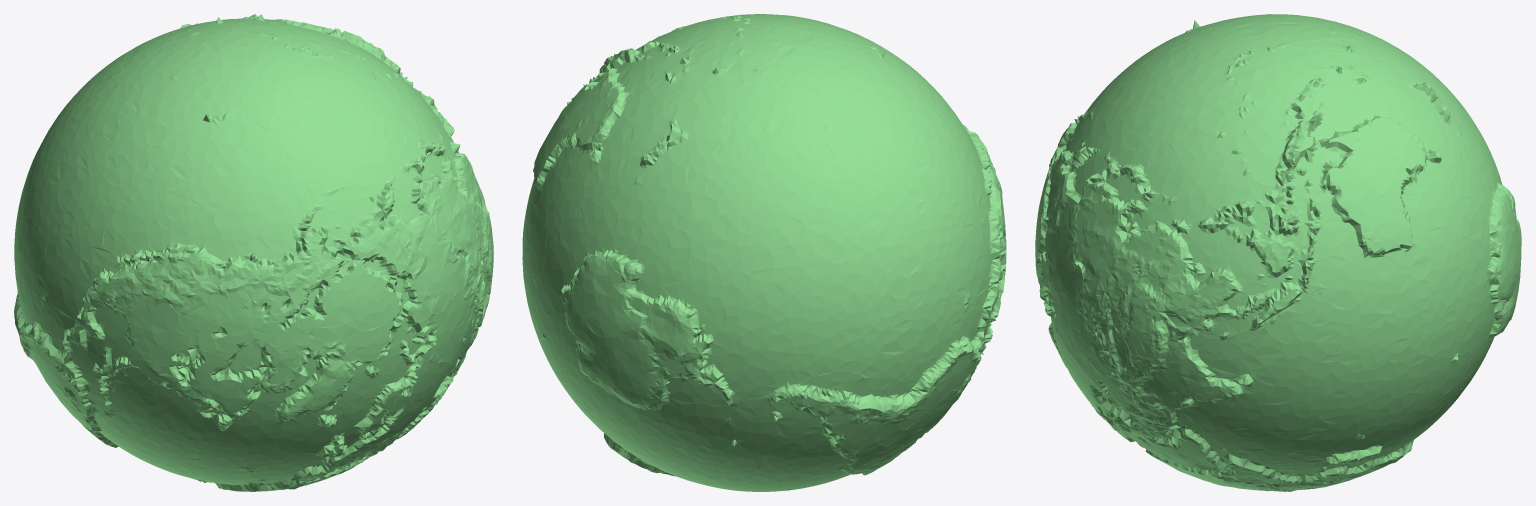
The model's file is earth.gltf.
The picture shows the model from 3 angles, left to right: view 1: azimuth 30°, elevation 25°; view 2: azimuth 150°, elevation 25°; view 3: azimuth 270°, elevation 25°; orthographic projection. The views are drawn at different scales.
Visible parts, largest first — view 1: Node1; view 2: Node1; view 3: Node1.
Boxes of the visible parts, x1,y1,x2,y2 form: Node1: (14,14,493,491); Node1: (522,14,1006,491); Node1: (1035,14,1521,491).
Size of the model in its own units: 80.51 by 79.5 by 81.3.
